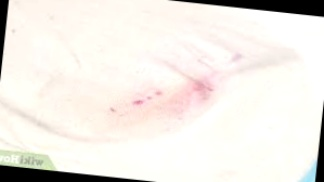lipstick: (112, 84, 165, 125), (155, 82, 203, 127), (188, 73, 219, 101), (227, 48, 245, 67)
